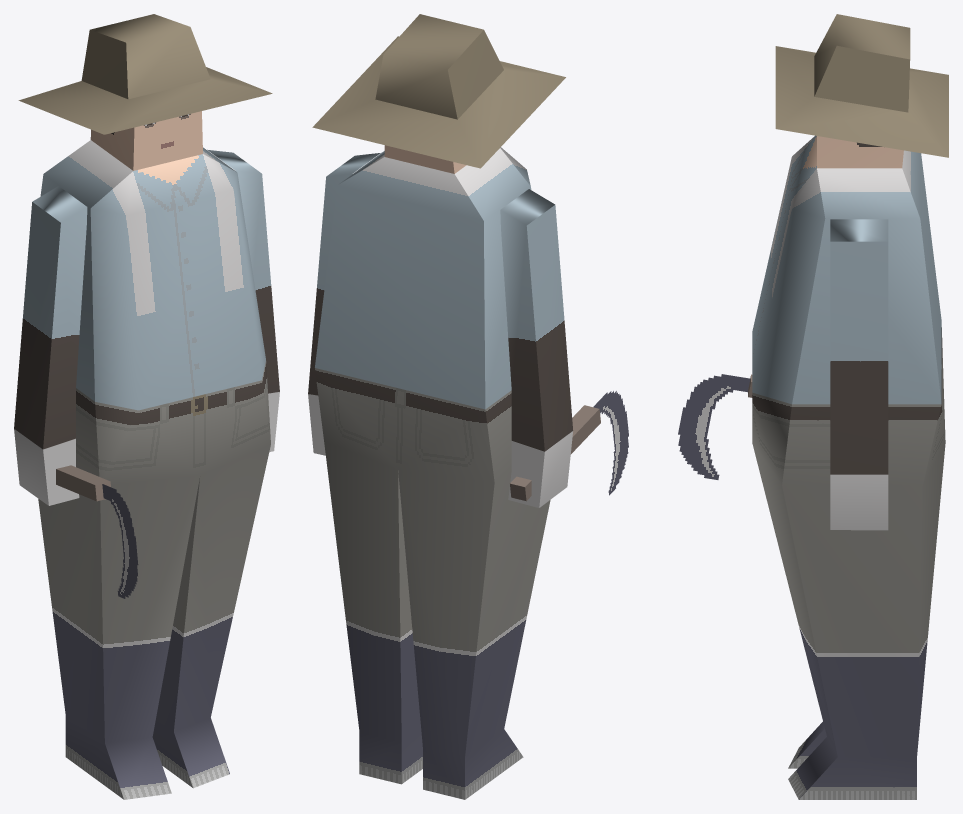
Rendered from 022c_Farmer.glb.
The picture shows the model from 3 angles, left to right: view 1: azimuth 30°, elevation 25°; view 2: azimuth 150°, elevation 25°; view 3: azimuth 270°, elevation 25°; orthographic projection.
Parts seen in each view (by area): view 1: part_0; view 2: part_0; view 3: part_0.
Boxes of the visible parts, <box> form: part_0: <box>14,14,279,799</box>; part_0: <box>308,14,628,799</box>; part_0: <box>678,14,948,799</box>.
Bounding box in the file's own units: 0.5977 × 1.78 × 0.616.
1 material, 1 textured.
